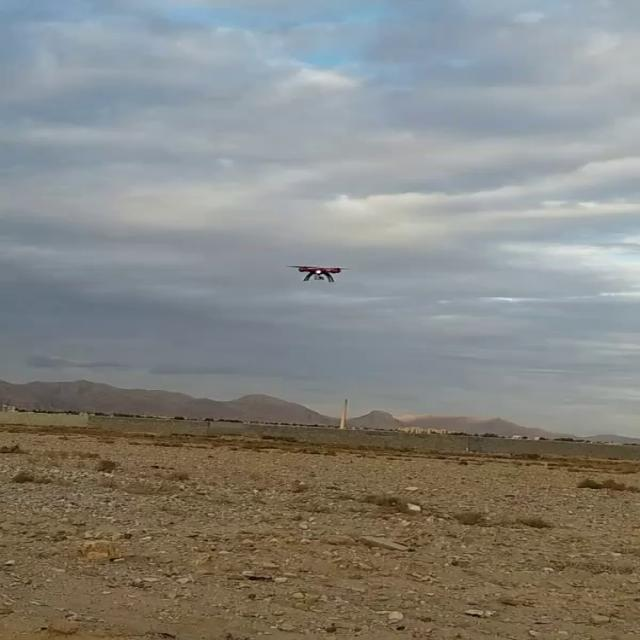drone: (278, 260, 354, 288)
